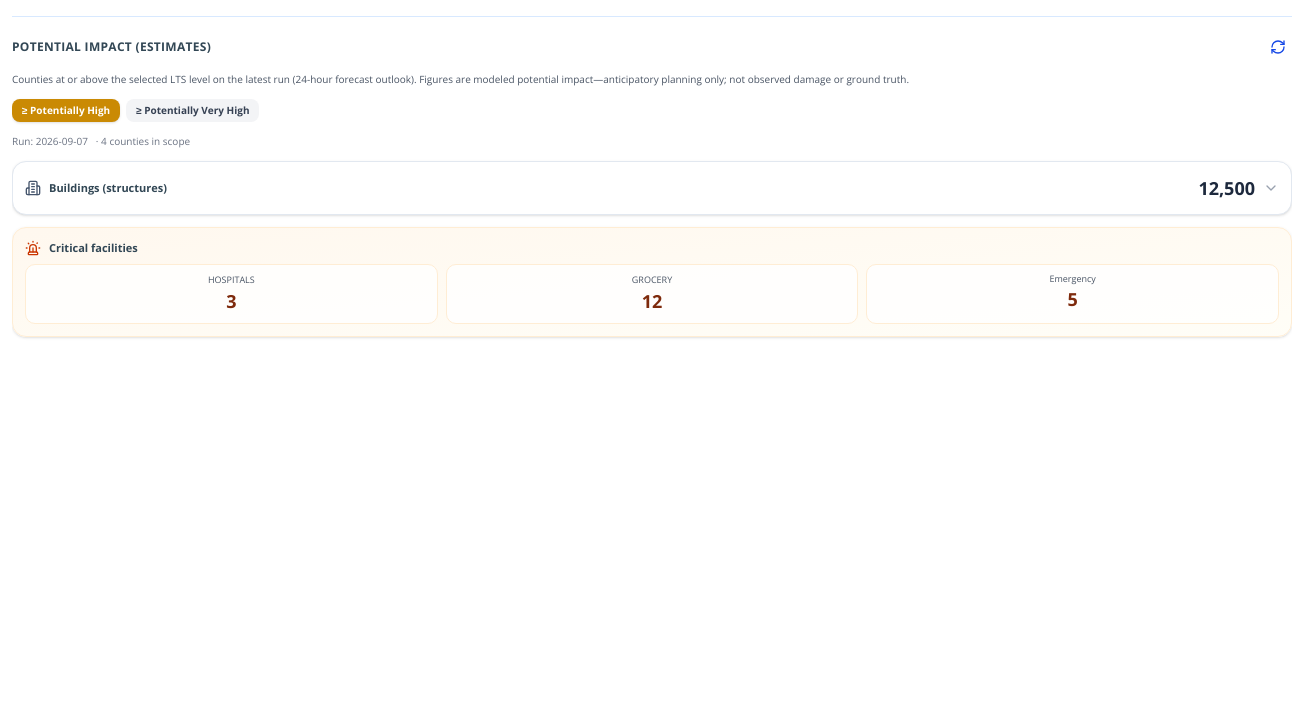
Scenario: HMEDLtsExposureWidgets › expands and collapses the buildings breakdown
Expected: the text "Residential" is not shown
Click the button "Buildings (structures) 12,500" at (108, 187), box [25,174,1279,202]
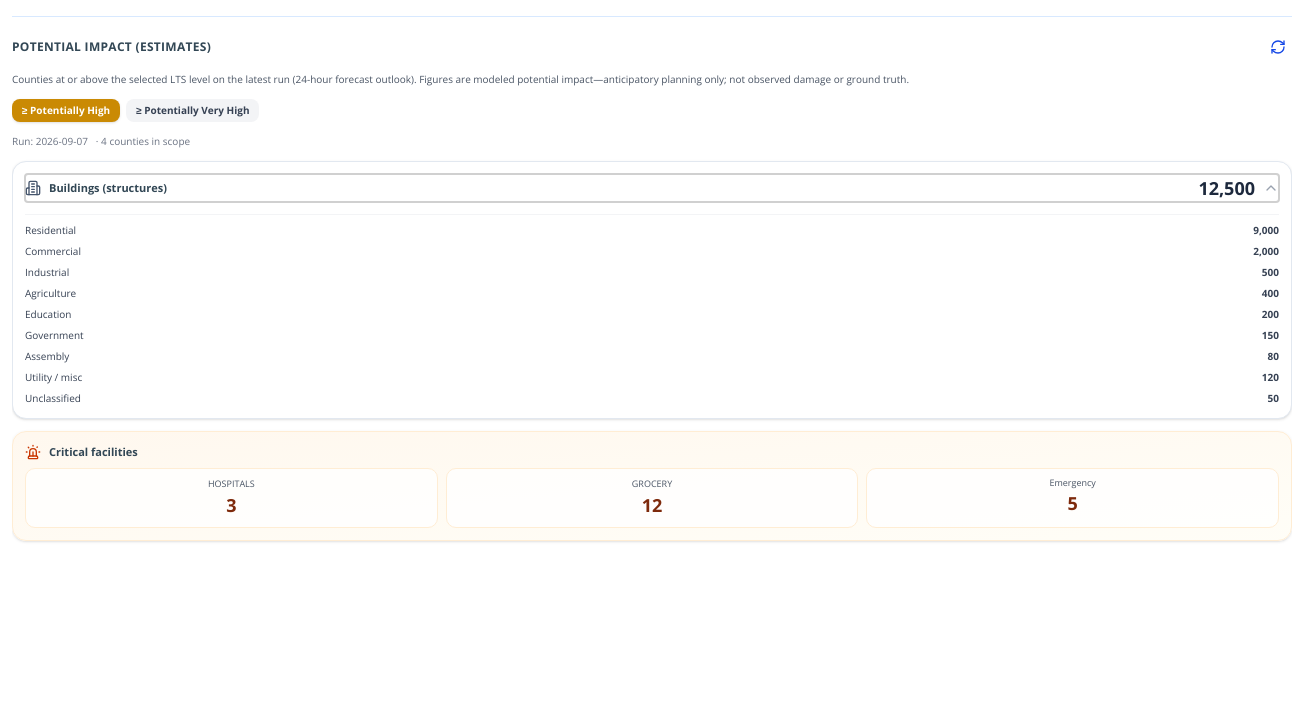
Now the text "Residential" is shown, box [25,223,76,238]
Now the text "9,000" is shown, box [1253,223,1279,238]
Now the text "Commercial" is shown, box [25,244,81,259]
Click the button "Buildings (structures) 12,500" at (108, 187), box [25,174,1279,202]
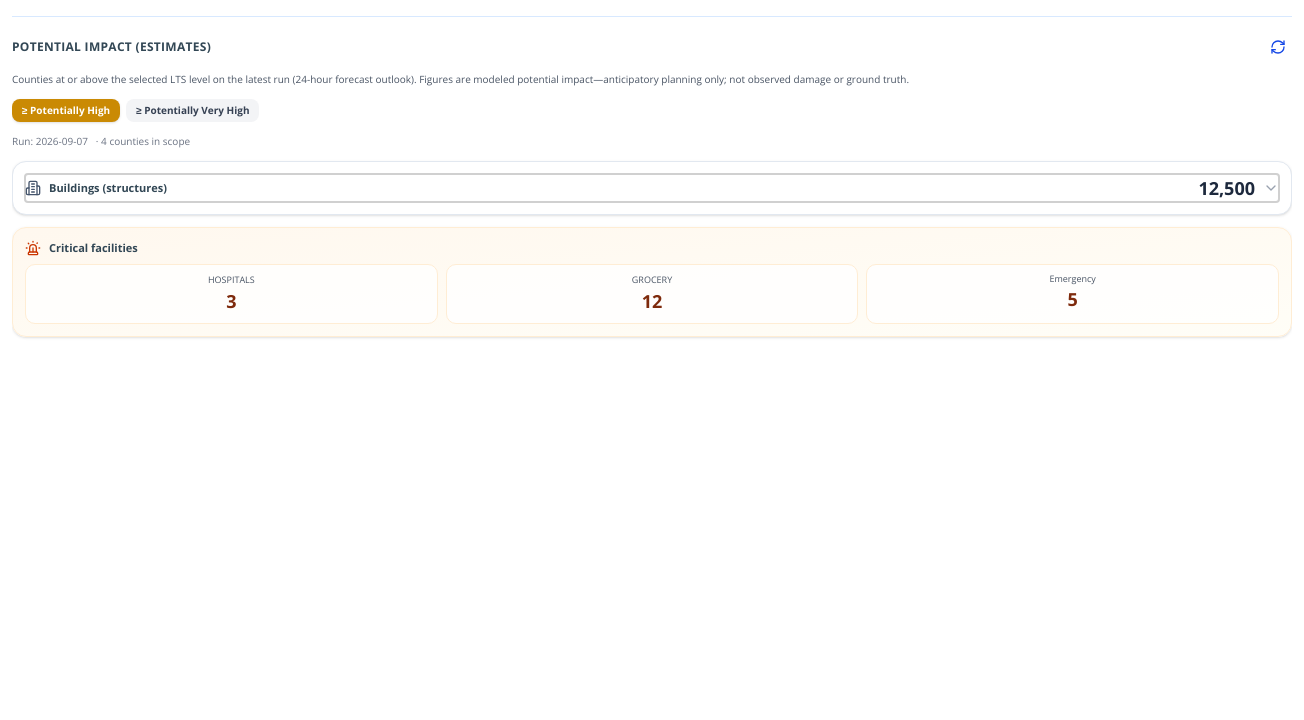
Now the text "Residential" is gone
